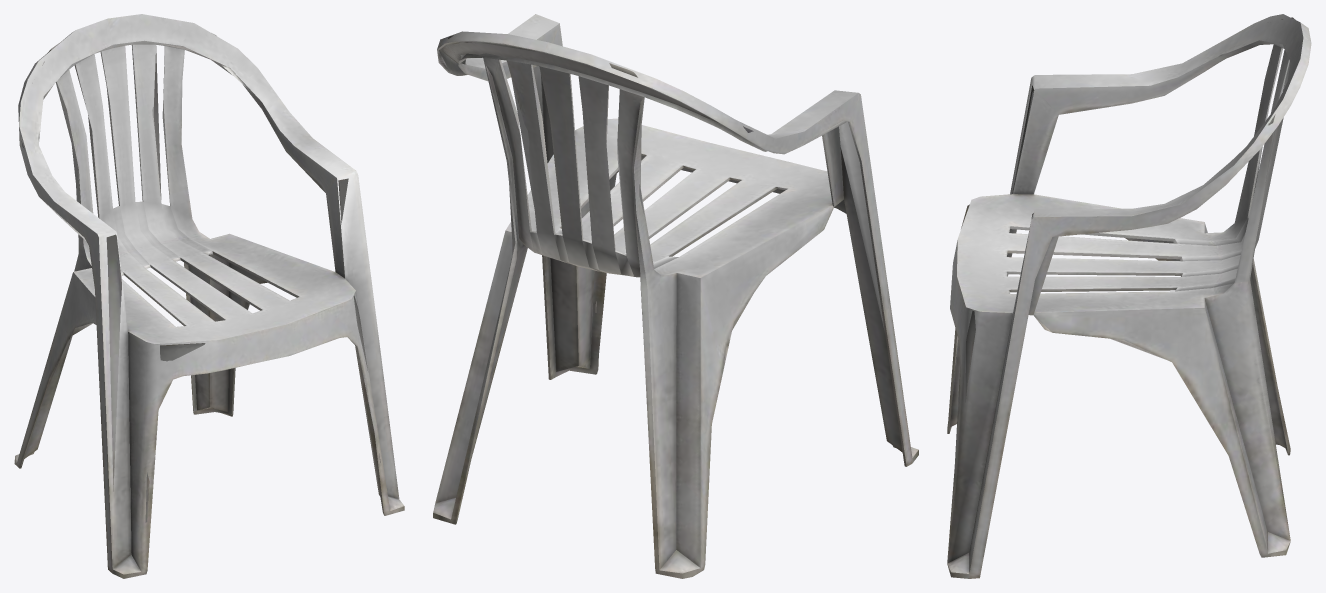
The model's file is plastic_monobloc_chair_01.glb.
3 views of the same model, side by side, from view 1: azimuth 30°, elevation 25°; view 2: azimuth 150°, elevation 25°; view 3: azimuth 270°, elevation 25° (orthographic). The views are drawn at different scales.
Visible parts, largest first — view 1: plastic_monobloc_chair_01; view 2: plastic_monobloc_chair_01; view 3: plastic_monobloc_chair_01.
Boxes of the visible parts, x1,y1,x2,y2 form: plastic_monobloc_chair_01: (14,14,404,578); plastic_monobloc_chair_01: (433,14,918,578); plastic_monobloc_chair_01: (947,14,1311,578).
Size of the model in its own units: 0.6419 by 0.8798 by 0.6276.
1 material, 1 textured.
